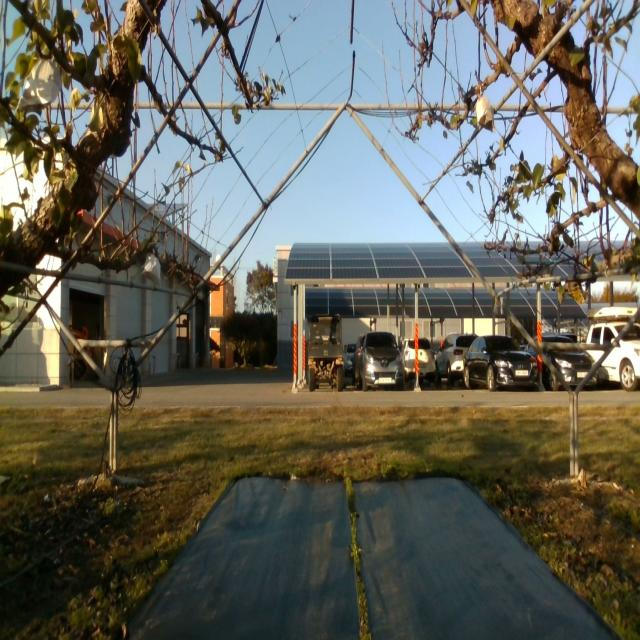pearbags: (15, 57, 61, 109), (476, 86, 495, 132), (140, 248, 160, 284)
